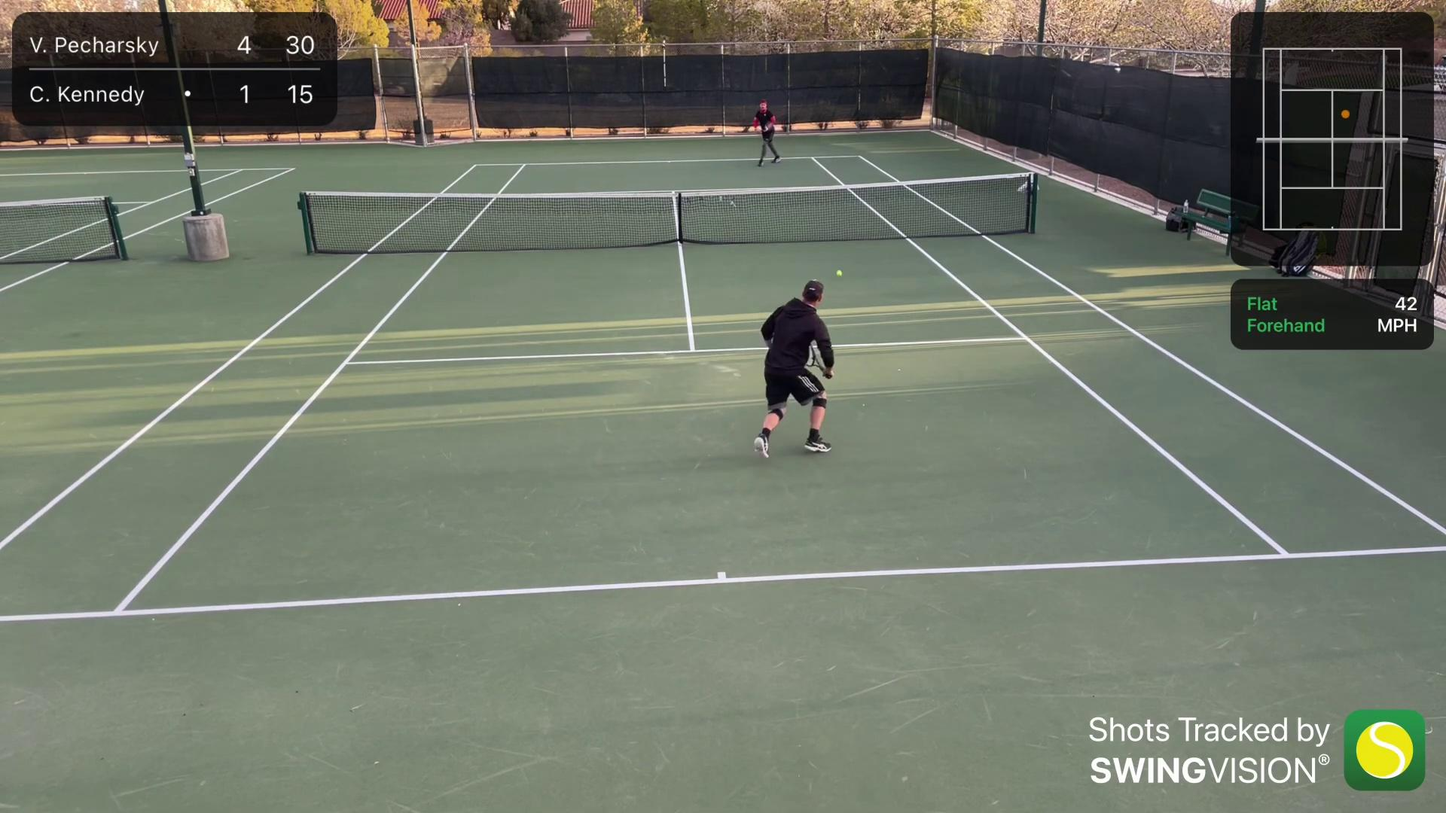ball: (835, 269, 843, 278), (763, 422, 771, 430)
